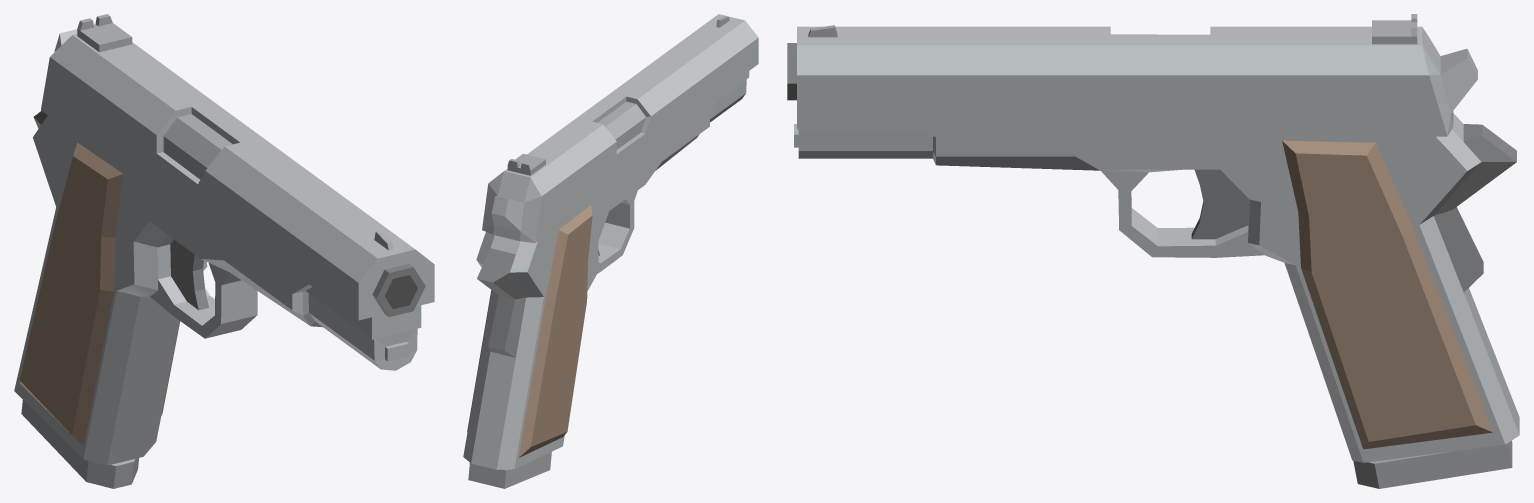
File: Pistol.fbx
3 views of the same model, side by side, from view 1: azimuth 30°, elevation 25°; view 2: azimuth 150°, elevation 25°; view 3: azimuth 270°, elevation 25° (orthographic). The views are drawn at different scales.
Parts seen in each view (by area): view 1: Pistol_2; view 2: Pistol_2; view 3: Pistol_2.
Boxes of the visible parts, x1,y1,x2,y2 form: Pistol_2: [14, 14, 434, 488]; Pistol_2: [463, 14, 758, 488]; Pistol_2: [787, 14, 1519, 488].
Size of the model in its own units: 3.3 by 15.63 by 22.62.
